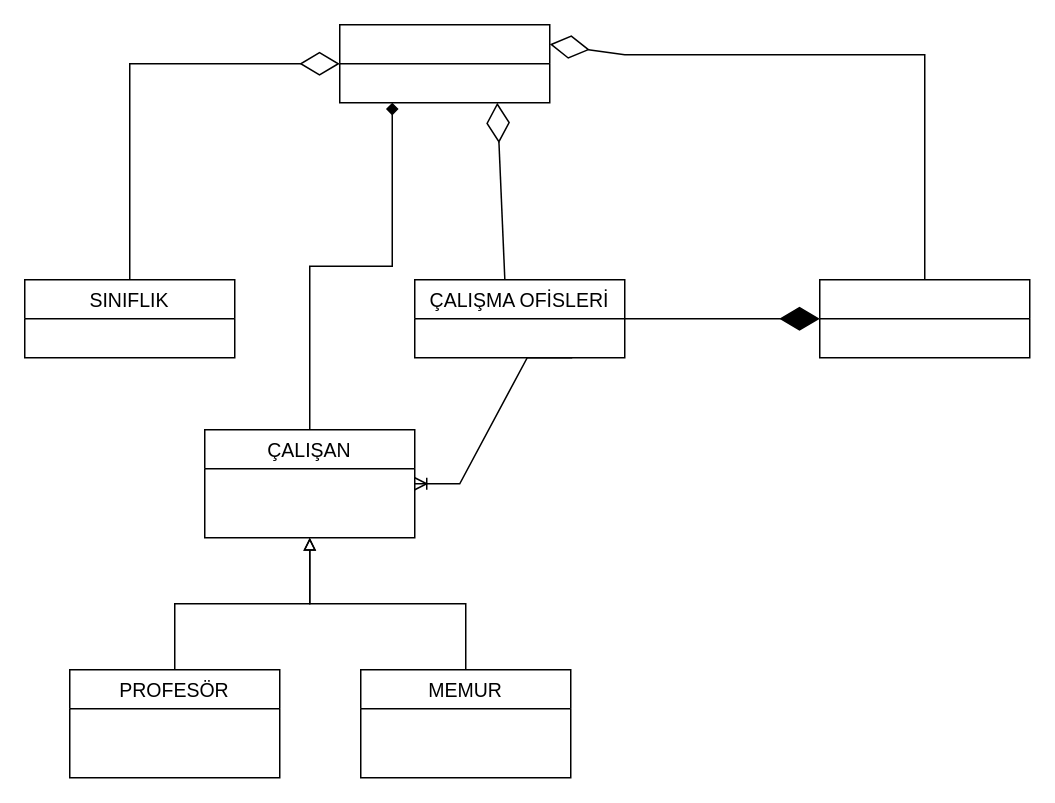
This 1055x803 diagram has some shape labels left out. Each missing label, with the centre of its shape:
"DEPARTMAN" goes at pixel 924 318.
"ÜNİVERSİTE" goes at pixel 444 63.
